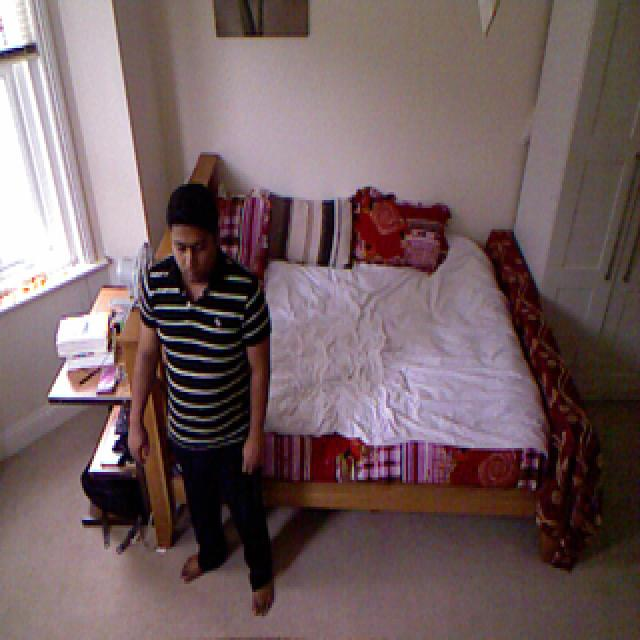standing: (135, 163, 274, 601)
